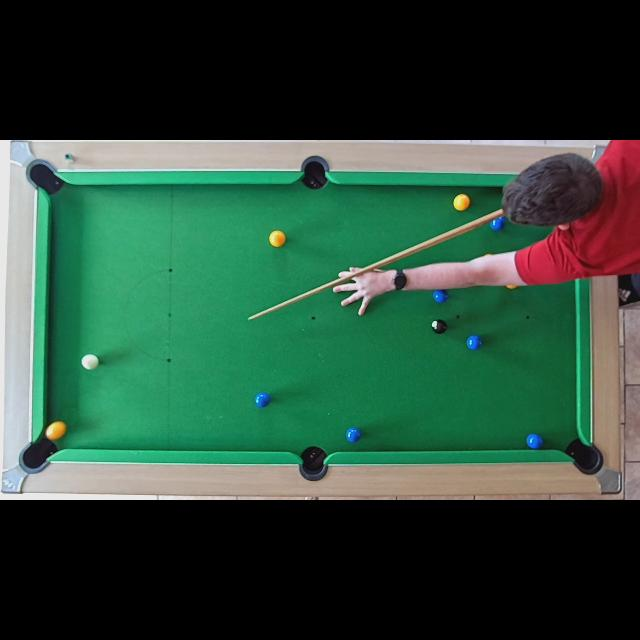Ball: (44, 422, 66, 440), (454, 193, 471, 210), (503, 272, 521, 288), (526, 432, 542, 450), (82, 354, 98, 371), (270, 232, 286, 248), (254, 392, 270, 408), (490, 216, 506, 232), (346, 427, 360, 443), (466, 336, 482, 350), (432, 289, 448, 303), (432, 320, 446, 334)
